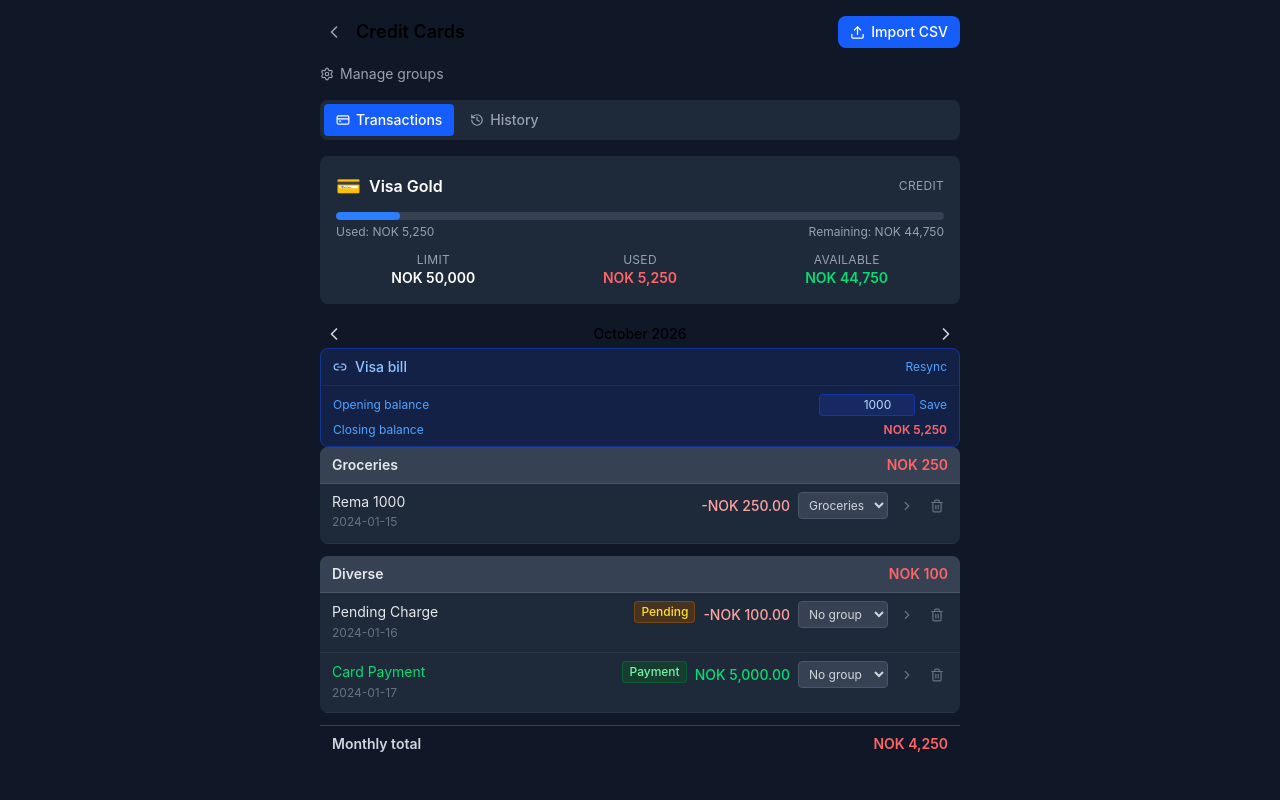
Test: BudgetCreditCards – delete transaction › opens a confirmation dialog naming the transaction
Check: the text "Rema 1000" is shown, box left=332, top=493, right=405, bottom=510
What coordinates should you click on to do the following:
click the button titled "Delete transaction" next to "-NOK 250.00"
I would click on:
 (937, 506)
Its box is left=926, top=494, right=948, bottom=516.
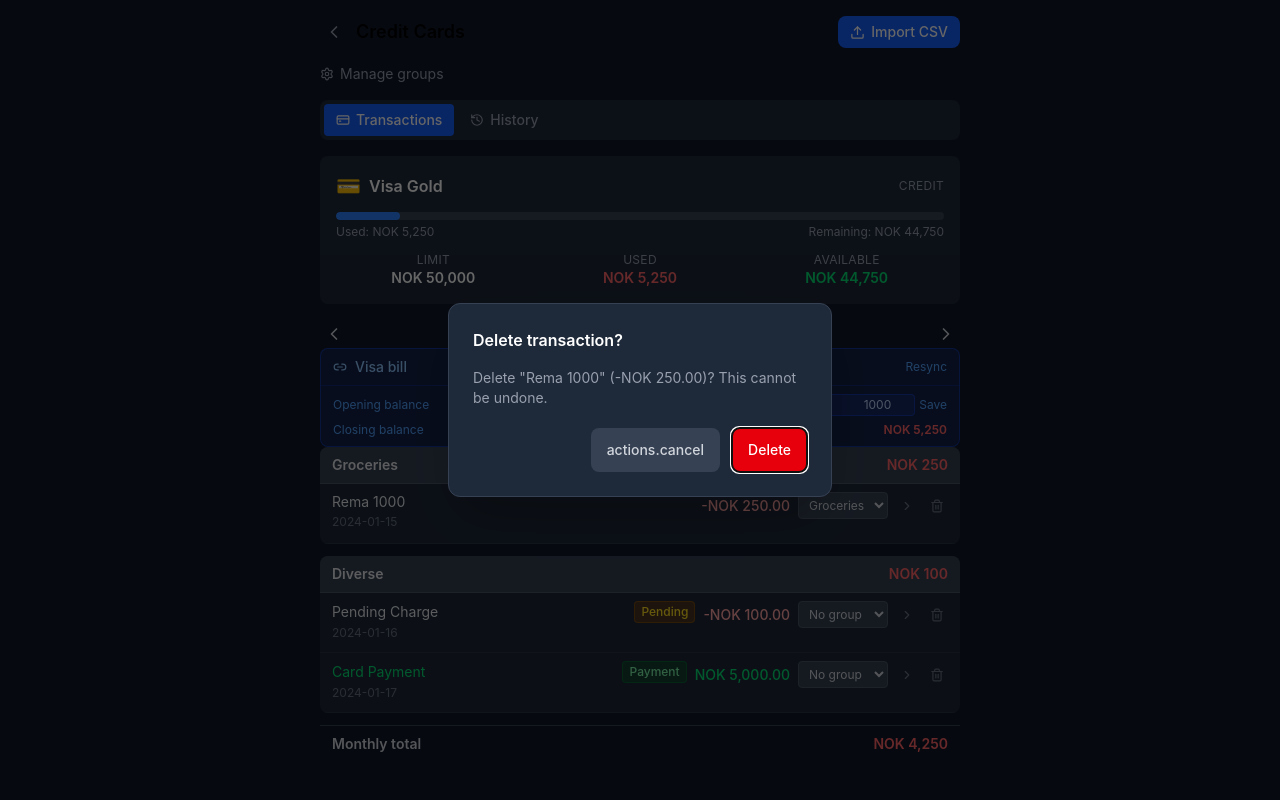
Check: the dialog is shown
Check: the dialog shows "Delete transaction?", box left=473, top=330, right=623, bottom=350
Check: the dialog shows "Rema 1000", box left=473, top=369, right=796, bottom=406
